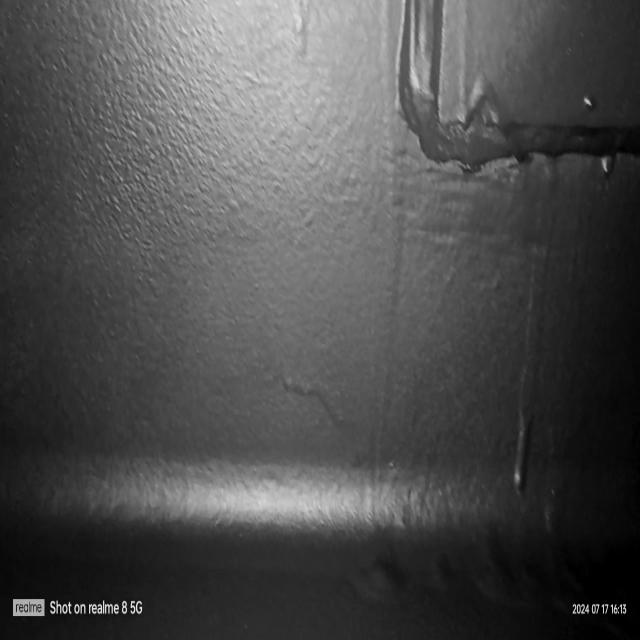paint drips: (506, 166, 564, 502), (276, 348, 356, 448), (591, 154, 622, 196), (580, 85, 600, 118)
